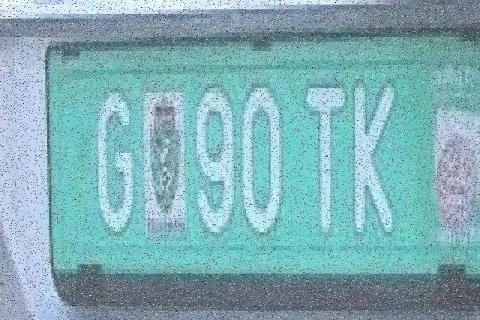LicensePlate: (29, 32, 480, 320)
